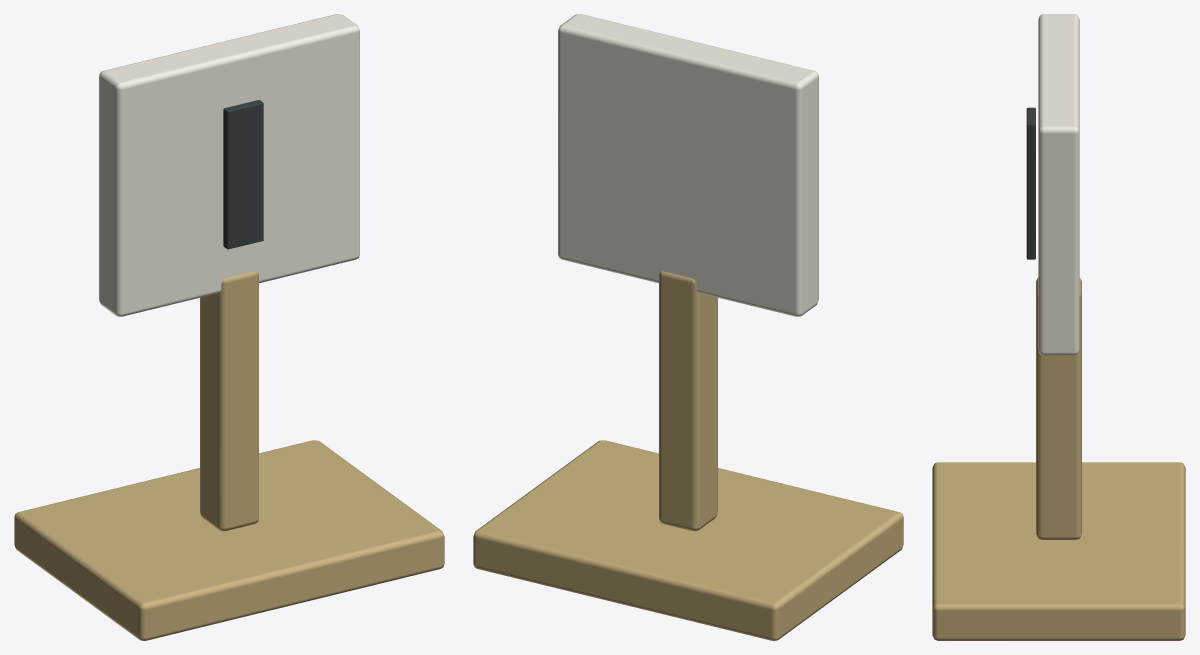
Rendered from city-courthouse-and-records-office-city-courthouse-and-999bf5cd__30979.glb.
3 views of the same model, side by side, from view 1: azimuth 30°, elevation 25°; view 2: azimuth 150°, elevation 25°; view 3: azimuth 270°, elevation 25° (orthographic). The views are drawn at different scales.
Visible parts, largest first — view 1: city-courthouse-and-records-office-exhibit-marker-stand; view 2: city-courthouse-and-records-office-exhibit-marker-stand; view 3: city-courthouse-and-records-office-exhibit-marker-stand.
Part boxes in pixels (bbox=[...]): city-courthouse-and-records-office-exhibit-marker-stand: bbox=[14, 14, 444, 640]; city-courthouse-and-records-office-exhibit-marker-stand: bbox=[473, 14, 903, 640]; city-courthouse-and-records-office-exhibit-marker-stand: bbox=[932, 14, 1185, 640].
Size of the model in its own units: 0.15 by 0.24 by 0.11.
